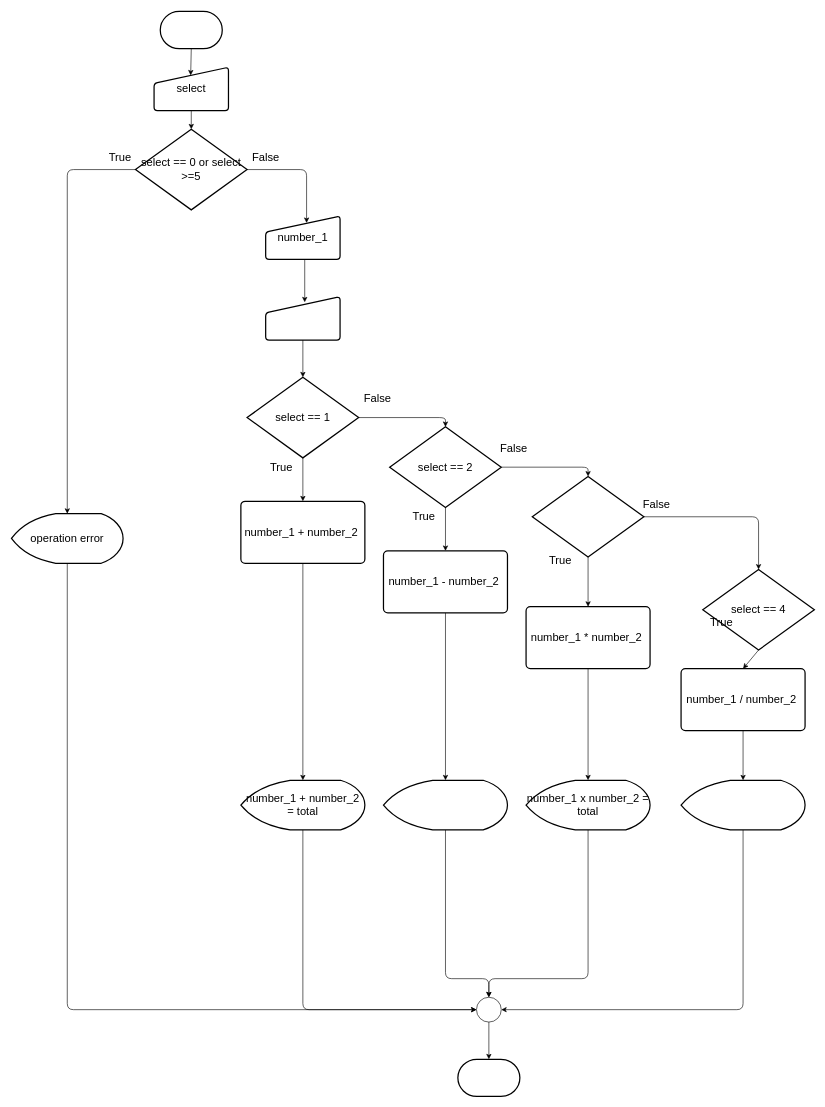
This 825x1107 diagram has some shape labels left out. The centre of each missing label's shape, as x and y in pixels:
"End" belongs at point (488, 1077).
"number_1 - number_2 = total" belongs at point (445, 804).
"number_1 / number_2 = total" belongs at point (742, 804).
"number_2" belongs at point (302, 318).
"select == 3" belongs at point (587, 516).
"start" belongs at point (191, 30).
